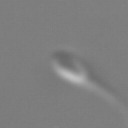normal: (86, 78, 128, 113)
